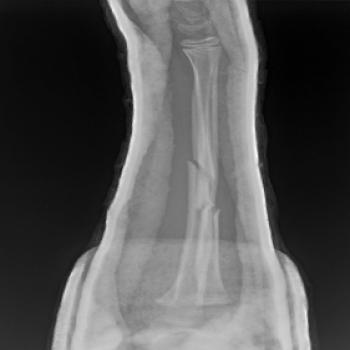Fracture: (178, 199, 228, 237), (183, 153, 216, 183)
